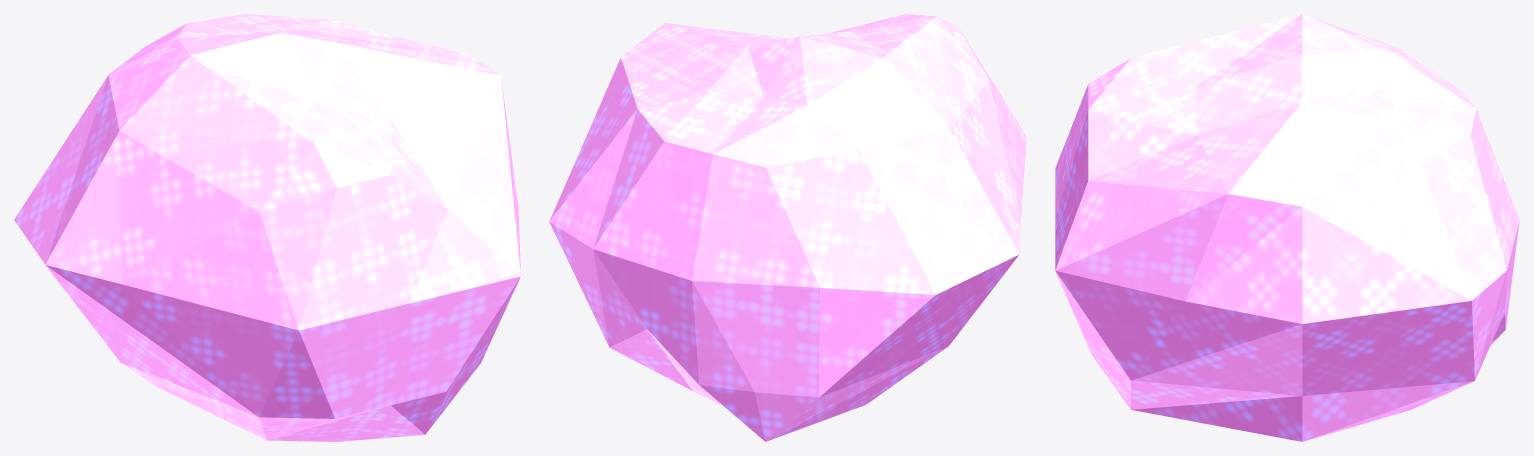
The model's file is mendiane.glb.
The picture shows the model from 3 angles, left to right: view 1: azimuth 30°, elevation 25°; view 2: azimuth 150°, elevation 25°; view 3: azimuth 270°, elevation 25°; orthographic projection. The views are drawn at different scales.
Visible parts, largest first — view 1: Light; view 2: Light; view 3: Light.
Part boxes in pixels (x1,y1,x2,y2): Light: [14, 14, 520, 441]; Light: [549, 14, 1026, 441]; Light: [1055, 14, 1519, 441].
Bounding box in the file's own units: 12.81 × 10.35 × 11.84.
1 material, 1 textured.
